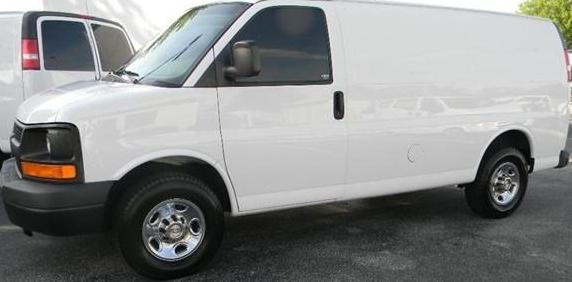front_view: (3, 89, 110, 243)
headlight: (16, 119, 89, 190)
side_glass: (212, 5, 337, 91)
